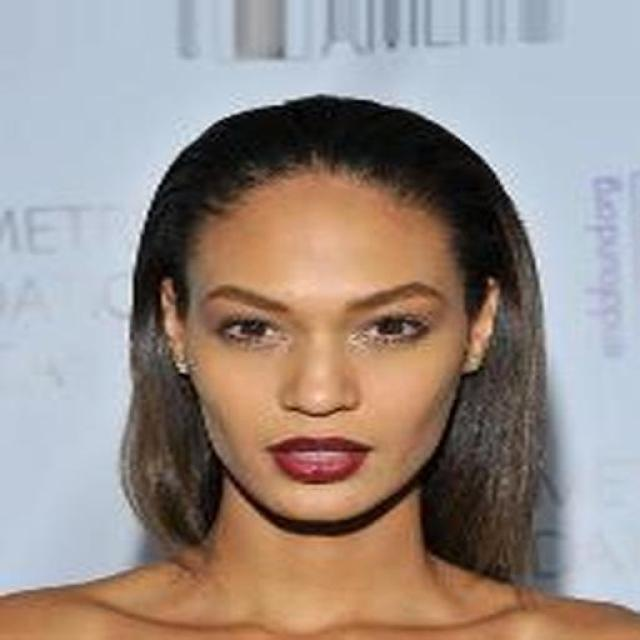bareface: (134, 158, 528, 541)
